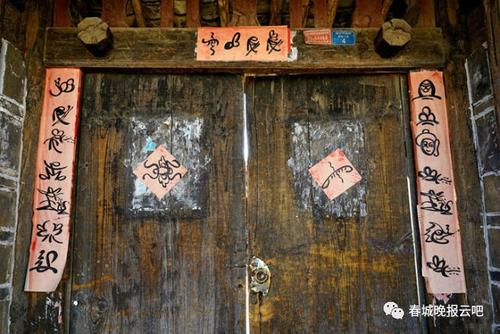naxi: (413, 78, 459, 280), (36, 72, 76, 274), (136, 148, 184, 188), (202, 31, 289, 53), (317, 156, 358, 194)
